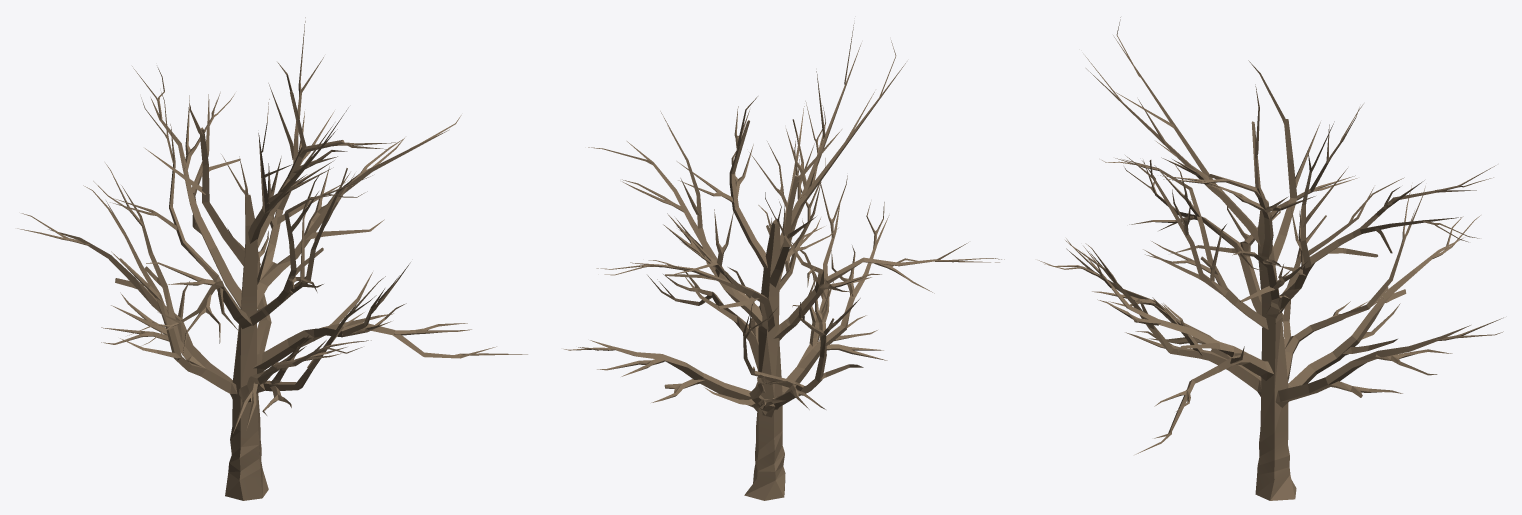
Rendered from tree_bare_a_6.FBX.
3 views of the same model, side by side, from view 1: azimuth 30°, elevation 25°; view 2: azimuth 150°, elevation 25°; view 3: azimuth 270°, elevation 25° (orthographic). The views are drawn at different scales.
Visible parts, largest first — view 1: tree_bare_a_6; view 2: tree_bare_a_6; view 3: tree_bare_a_6.
Part boxes in pixels (x1,y1,x2,y2): tree_bare_a_6: (17,17,527,500); tree_bare_a_6: (564,23,1004,500); tree_bare_a_6: (1038,17,1503,500).
Bounding box in the file's own units: 6.46 × 7.16 × 6.81.
